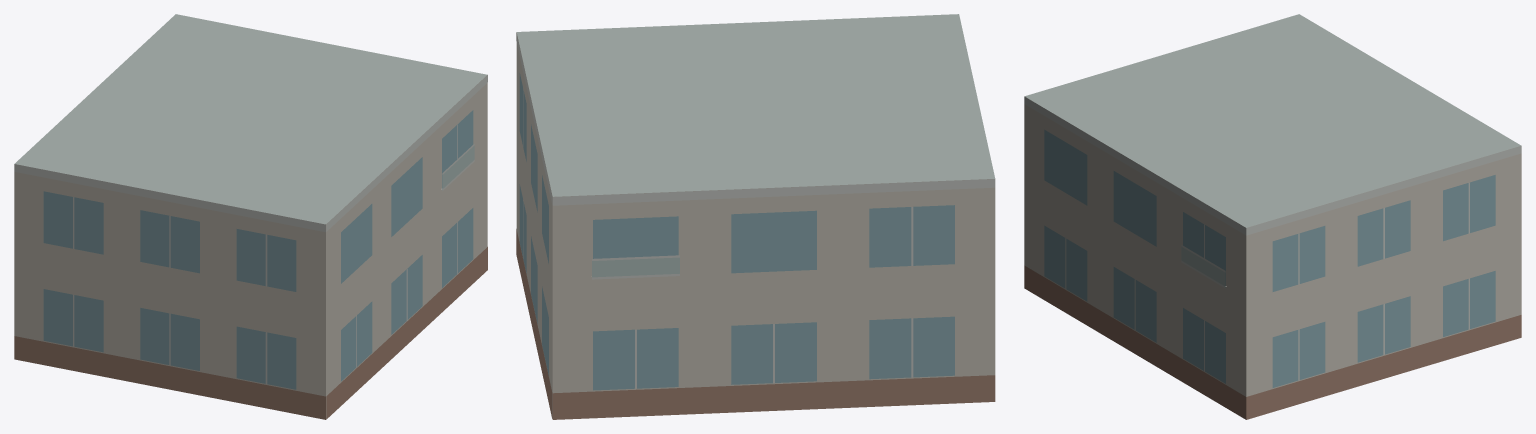
Rendered from survey-upis-32683065.glb.
3 views of the same model, side by side, from view 1: azimuth 30°, elevation 25°; view 2: azimuth 150°, elevation 25°; view 3: azimuth 270°, elevation 25° (orthographic). The views are drawn at different scales.
Parts seen in each view (by area): view 1: survey-upis-32683065.tmp; view 2: survey-upis-32683065.tmp; view 3: survey-upis-32683065.tmp.
Boxes of the visible parts, x1,y1,x2,y2 form: survey-upis-32683065.tmp: [14, 14, 487, 419]; survey-upis-32683065.tmp: [516, 14, 995, 419]; survey-upis-32683065.tmp: [1024, 14, 1521, 419].
Bounding box in the file's own units: 14.59 × 6.1 × 14.33.
